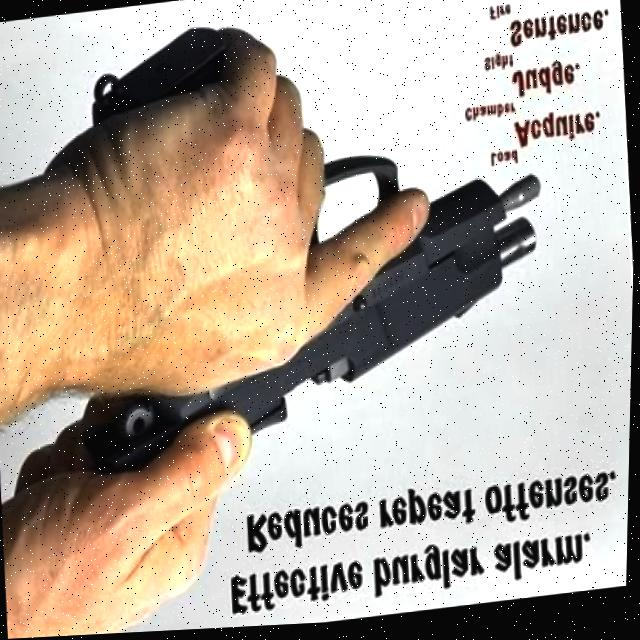pistol: (61, 136, 559, 498)
